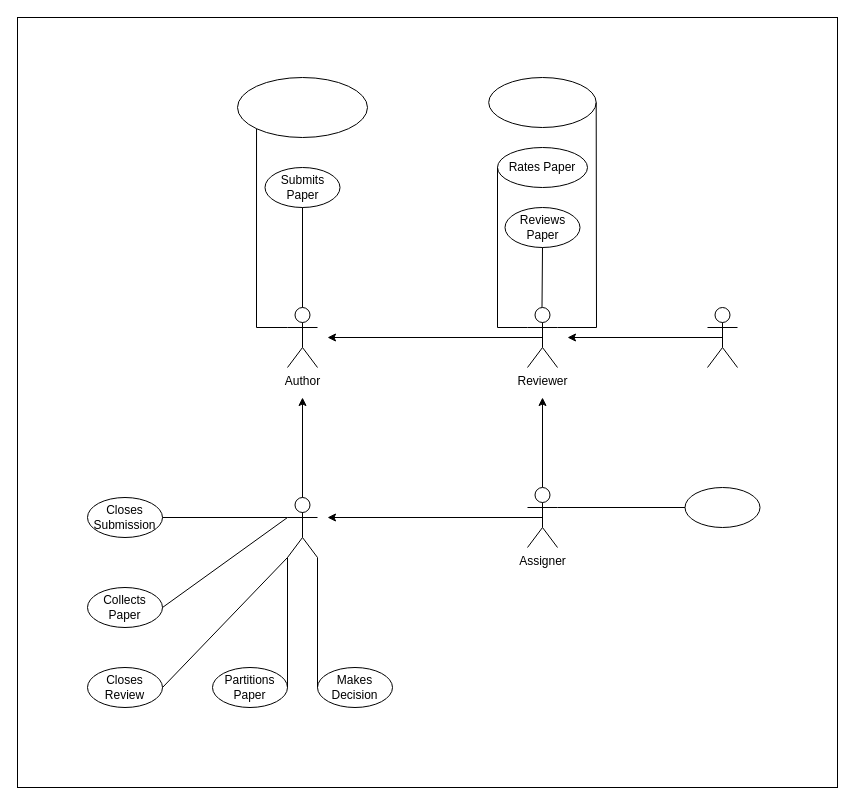
The diagram is 855 pixels wide and 805 high, and some of its shapes have lost their labels. Here are the shapes that lost their labels. From the top down, the centre of each, then its label:
the point at 302,107: Makes Changes to Paper as per reviews obtained
the point at 542,102: Accepts or Rejects Paper
the point at 722,337: External Reviewer
the point at 302,527: OC
the point at 722,507: Assigns Paper
